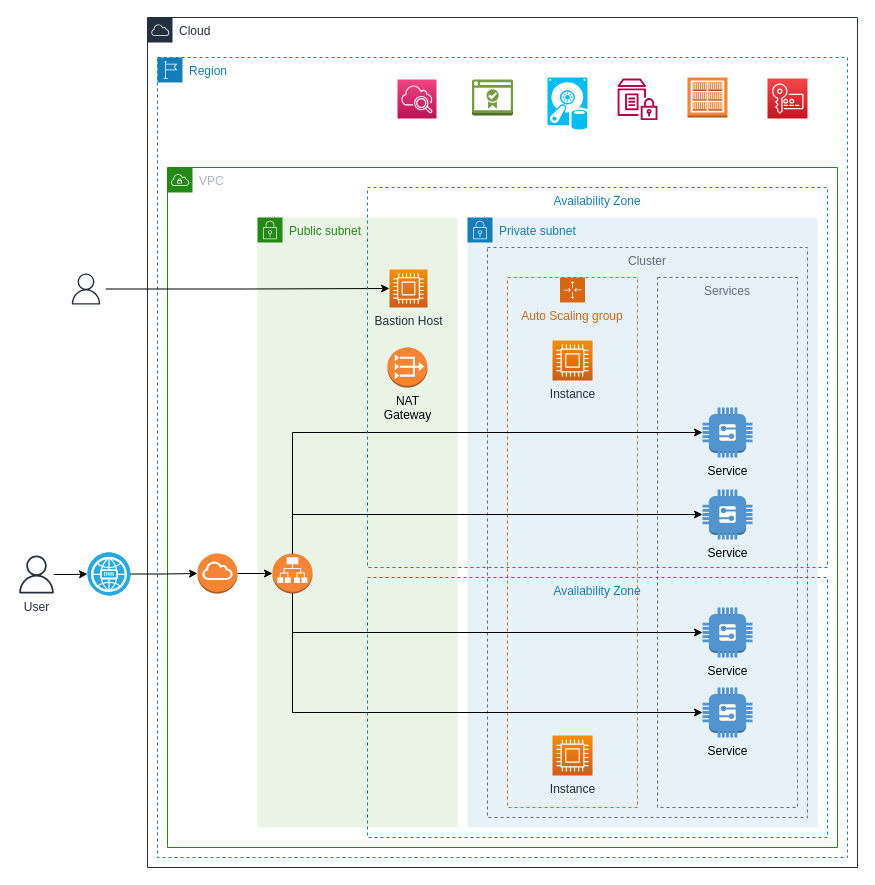
Some shapes in this 875 by 885 pixel diagram are drawn without their labels. The centre of each missing label's shape, as x and y in pixels:
"Certificate Manager" belongs at (492,97).
"Container Registry" belongs at (707,97).
"DNS" belongs at (108,574).
"Internet Gateway" belongs at (217,573).
"Key Management" belongs at (787,98).
"Load Balancer" belongs at (292,573).
"Logging" belongs at (416,98).
"Parameter Store" belongs at (637,99).
"Storage" belongs at (567,103).
"Sysadmin" belongs at (86,288).
